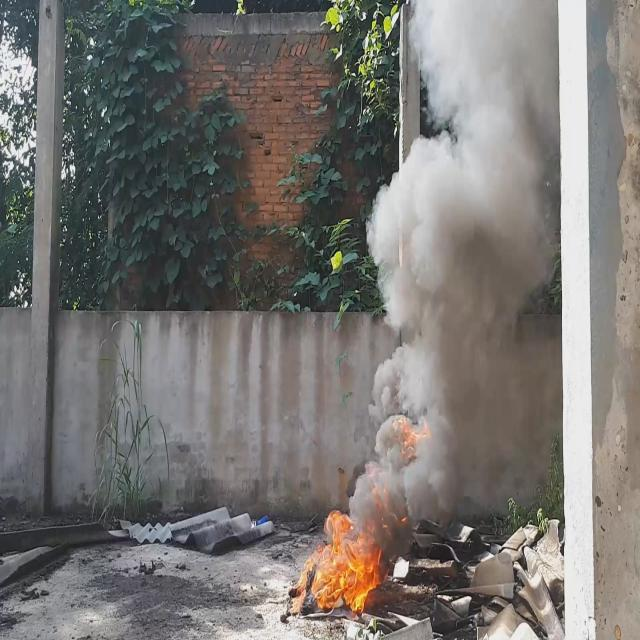Fire: (312, 508, 388, 606)
Smoke: (348, 0, 560, 548)
